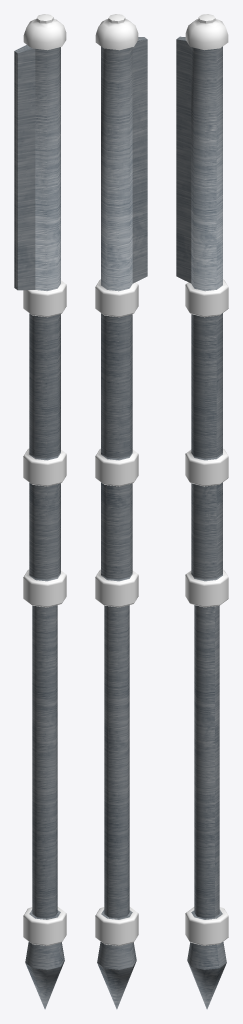
File: FlagStaff.obj
The picture shows the model from 3 angles, left to right: view 1: azimuth 30°, elevation 25°; view 2: azimuth 210°, elevation 25°; view 3: azimuth 330°, elevation 25°; orthographic projection.
Visible parts, largest first — view 1: FlagStaff; view 2: FlagStaff; view 3: FlagStaff.
Boxes of the visible parts, x1=… form: FlagStaff: x1=14, y1=14, x2=66, y2=1009; FlagStaff: x1=95, y1=14, x2=147, y2=1009; FlagStaff: x1=176, y1=14, x2=228, y2=1009.
Size of the model in its own units: 0.1004 by 2.06 by 0.0754.
